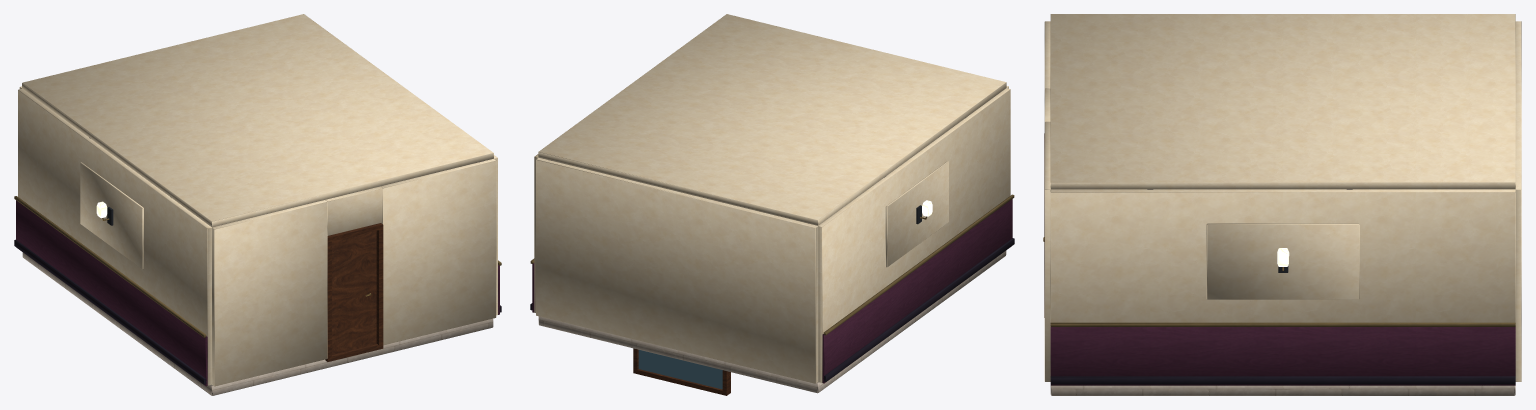
File: explore3d__guest_room.glb
3 renders of one model, left to right at view 1: azimuth 30°, elevation 25°; view 2: azimuth 150°, elevation 25°; view 3: azimuth 270°, elevation 25°, orthographic. The views are drawn at different scales.
Visible parts, largest first — view 1: Rebuilt_guest_room; view 2: Rebuilt_guest_room; view 3: Rebuilt_guest_room.
Boxes of the visible parts, <box> form: Rebuilt_guest_room: <box>14,14,501,395</box>; Rebuilt_guest_room: <box>530,14,1014,395</box>; Rebuilt_guest_room: <box>1043,14,1521,395</box>.
Bounding box in the file's own units: 6.79 × 4.09 × 7.2.
Materials: 16 (14 with a texture image).
